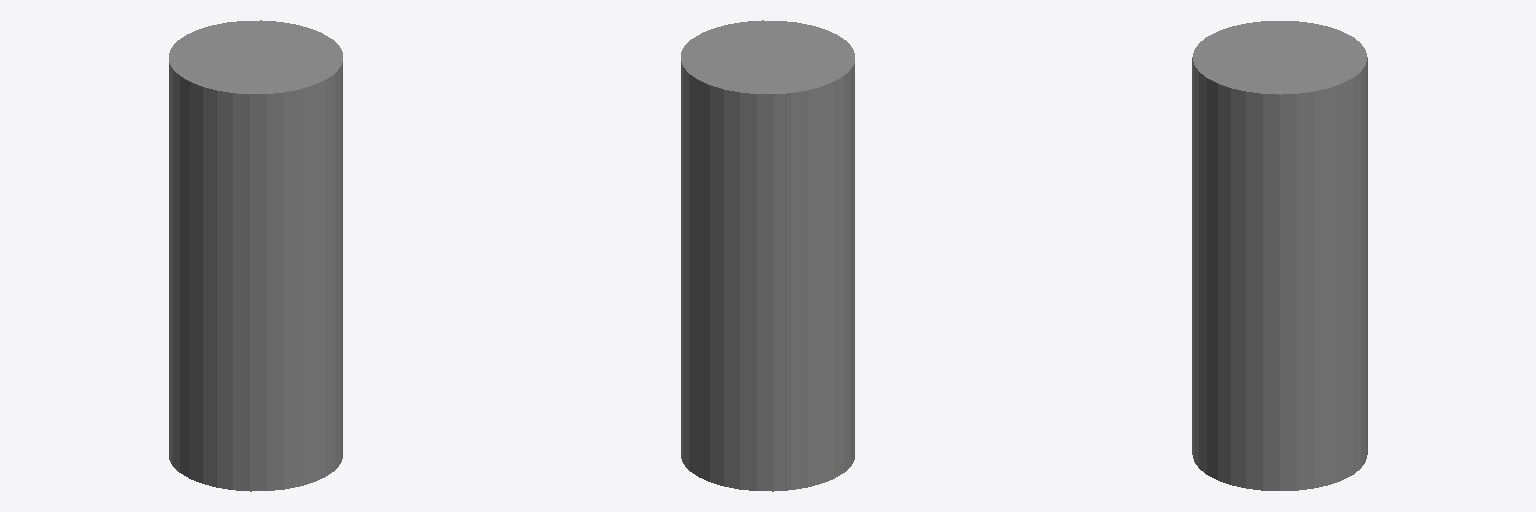
robot.urdf — cylinder_one:
<?xml version="1.0"?>
<robot name="cylinder_one">
  <link name="base_link">
    <visual>
      <origin xyz="0 0 0" rpy="0 0 0"/>
      <geometry>
        <cylinder length="0.1" radius="0.02"/>
      </geometry>
      <material name="gray">
        <color rgba=".6 .6 .6 1"/>
      </material>
    </visual>
  </link>
</robot>

--- What the picture shows (computed from the rendered views, not written in the file) ---
The picture shows the robot from 3 angles, left to right: view 1: azimuth 30°, elevation 25°; view 2: azimuth 150°, elevation 25°; view 3: azimuth 270°, elevation 25°; orthographic projection.
Robot: cylinder_one — 1 links, 0 joints (none); root link base_link; default pose: every joint at zero.
Visible links, largest first — view 1: base_link; view 2: base_link; view 3: base_link.
Boxes of the visible links, <box> form: base_link: <box>169,20,342,491</box>; base_link: <box>681,20,854,491</box>; base_link: <box>1192,21,1367,490</box>.
Size in the robot's own frame: 0.04 by 0.04 by 0.1 metres.
Geometry: primitives only (box / cylinder / sphere), no mesh files.